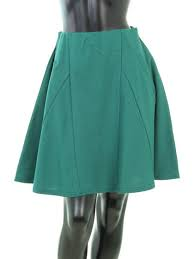C_skirt: (8, 34, 190, 200)
